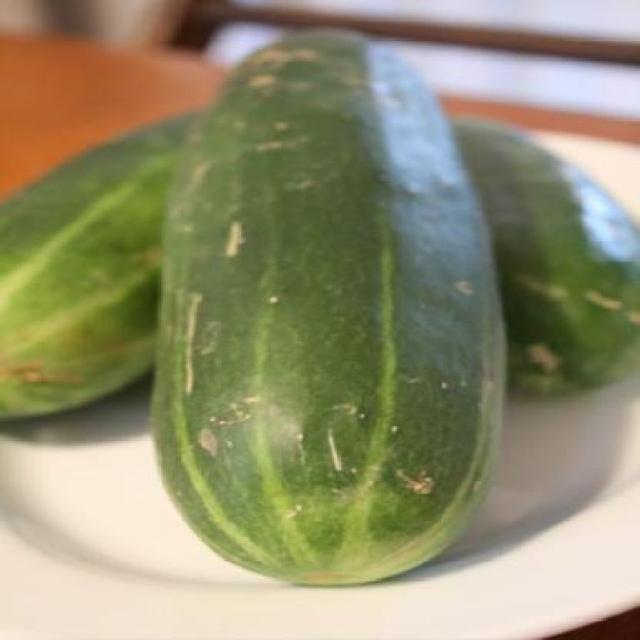Cucumber: (144, 24, 508, 590), (0, 108, 202, 422), (451, 117, 638, 395)
